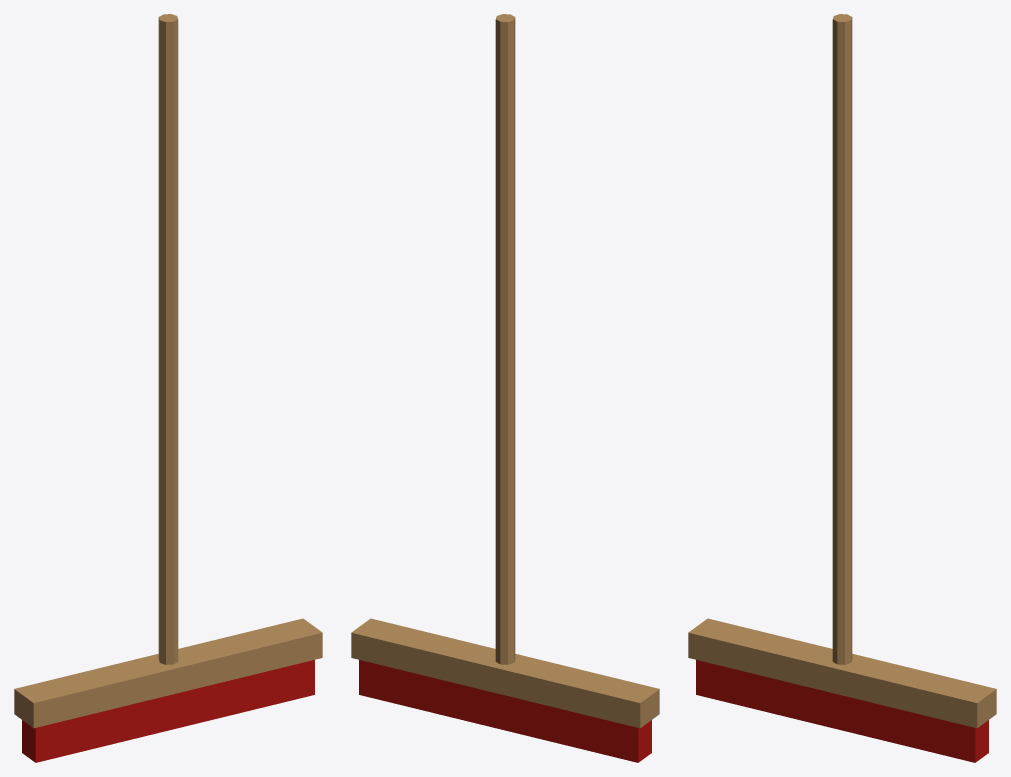
File: plant.tool.broom.glb
3 views of the same model, side by side, from view 1: azimuth 30°, elevation 25°; view 2: azimuth 150°, elevation 25°; view 3: azimuth 330°, elevation 25° (orthographic).
Visible parts, largest first — view 1: main__softwood, main__plastic_red; view 2: main__softwood, main__plastic_red; view 3: main__softwood, main__plastic_red.
Part boxes in pixels (x1,y1,x2,y2): main__softwood: [14, 14, 322, 728]; main__plastic_red: [22, 660, 314, 762]; main__softwood: [351, 14, 659, 728]; main__plastic_red: [359, 660, 651, 762]; main__softwood: [688, 14, 996, 728]; main__plastic_red: [696, 660, 988, 762].
Bounding box in the file's own units: 0.6 × 1.4 × 0.07.
